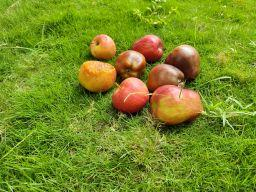apple: (148, 77, 211, 133), (110, 70, 151, 123), (161, 32, 201, 82), (69, 57, 121, 94), (110, 42, 152, 84), (145, 63, 190, 98), (84, 32, 123, 65), (132, 33, 167, 60)
